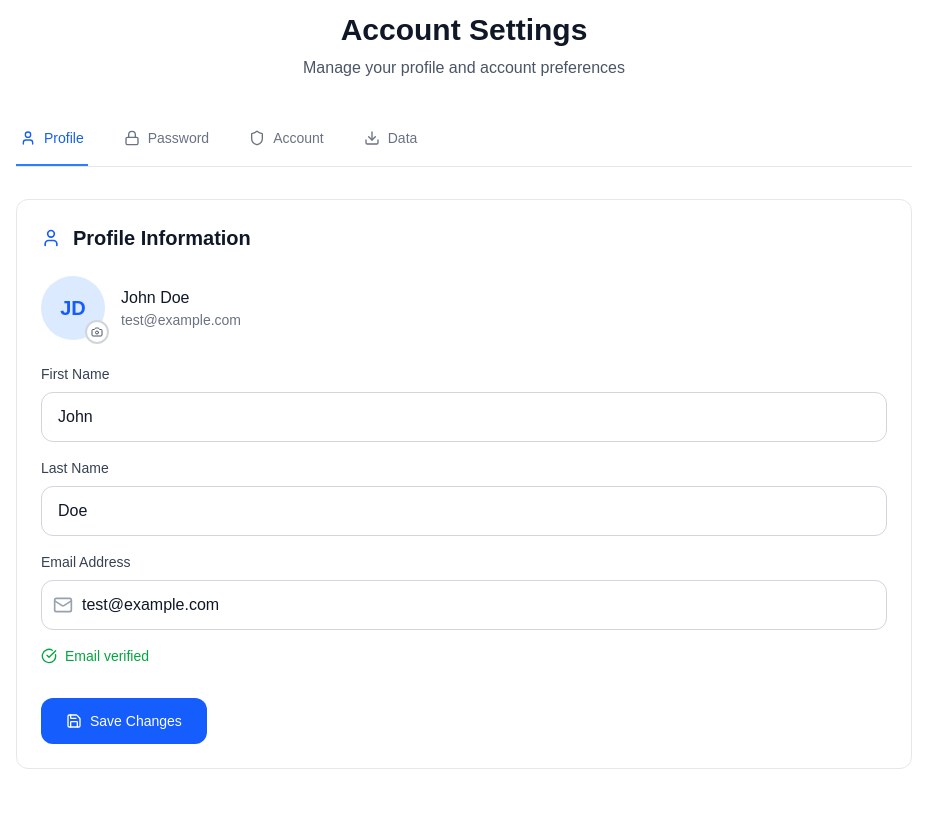
Test: ProfileManagement › Profile Tab › validates required fields
Note: Clear first name
Clear the field showing "John" at (464, 417), box [41, 392, 887, 442]
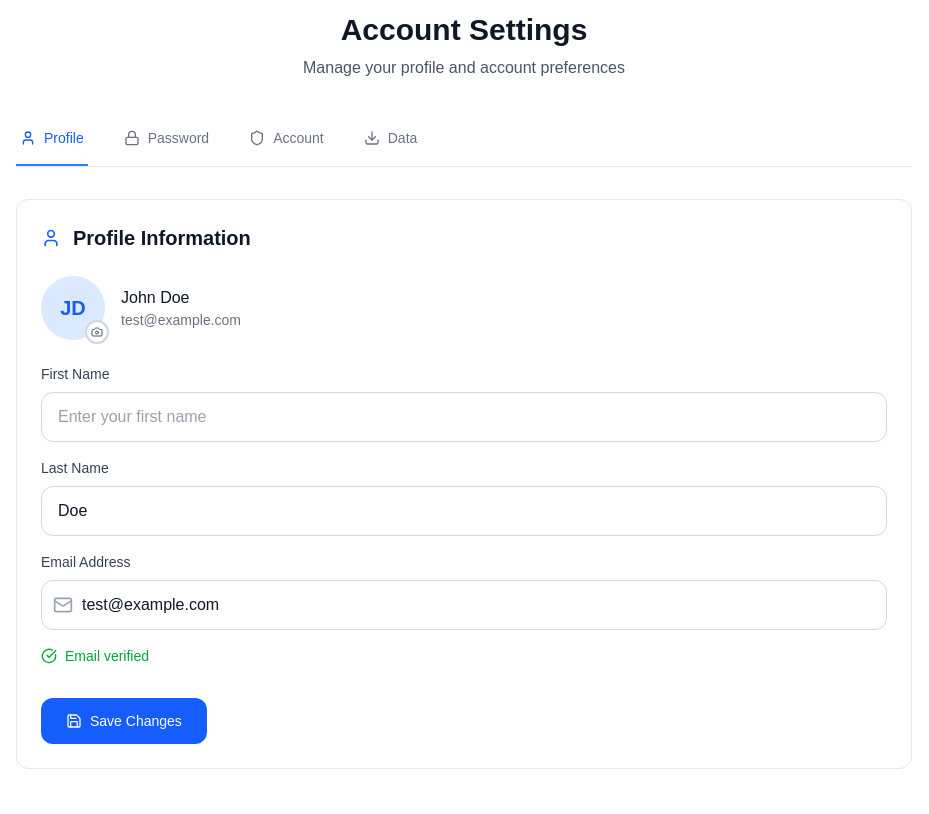
Note: Try to save
Click the button "Save Changes" at (124, 721), box [41, 698, 207, 744]
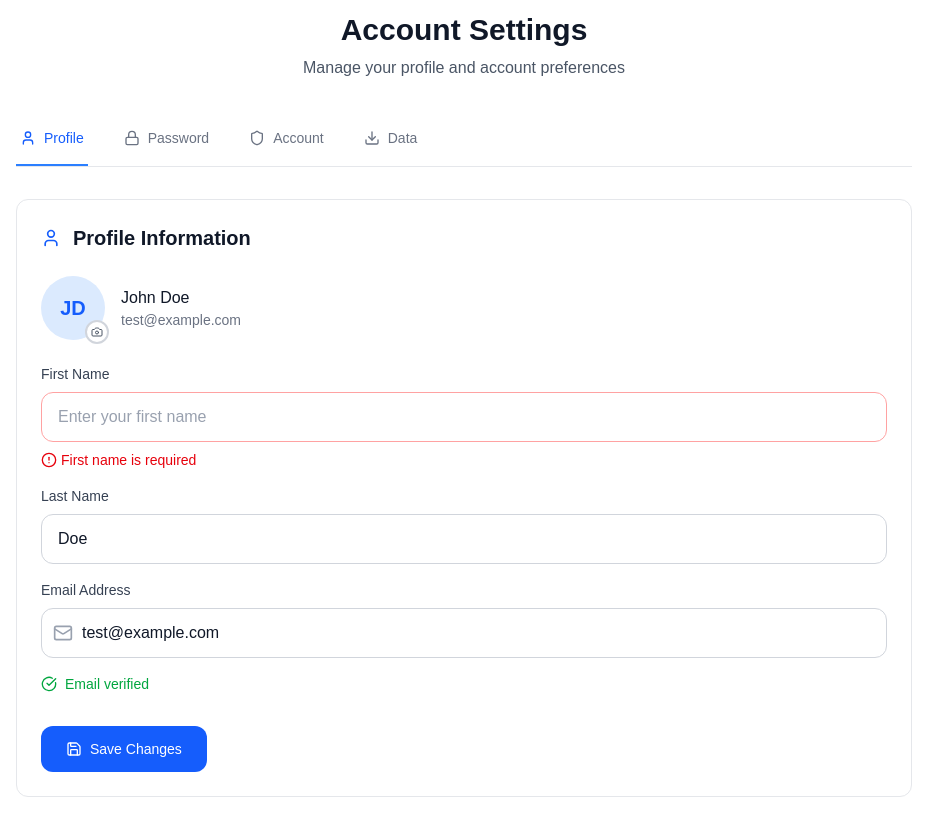
Result: the text "First name is required" is shown at [41, 452, 196, 468]
